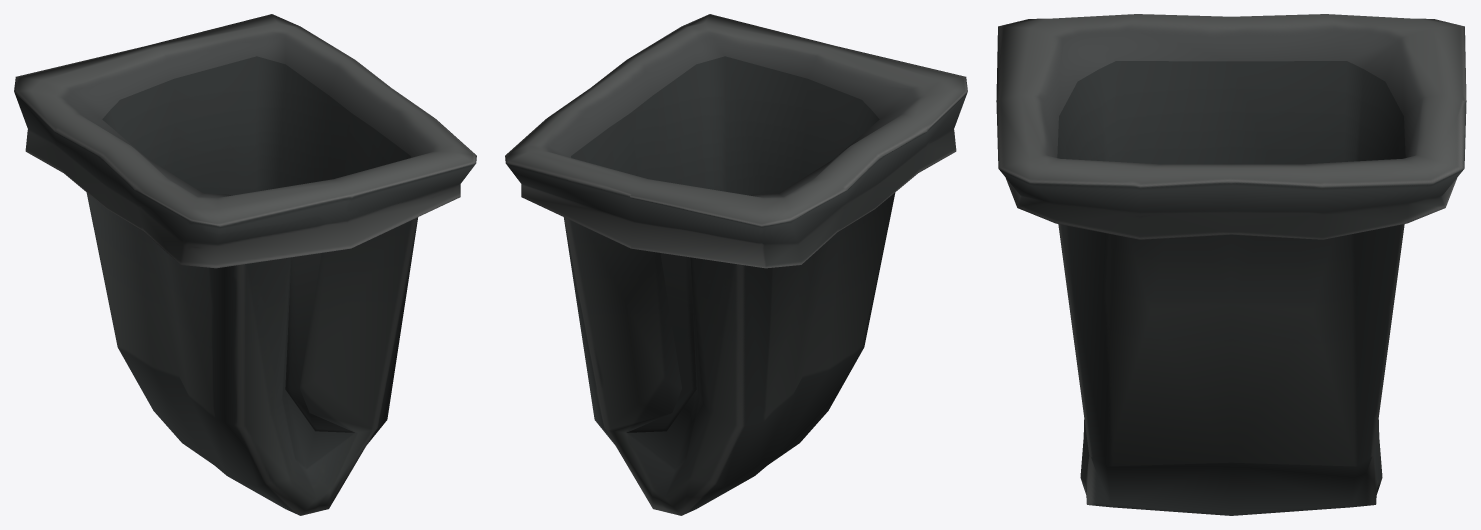
Rendered from cleaners_cleaningCart_trashBag_1.fbx.
The picture shows the model from 3 angles, left to right: view 1: azimuth 30°, elevation 25°; view 2: azimuth 150°, elevation 25°; view 3: azimuth 270°, elevation 25°; orthographic projection. The views are drawn at different scales.
Visible parts, largest first — view 1: cleaners_cleaningCart_trashBag_1; view 2: cleaners_cleaningCart_trashBag_1; view 3: cleaners_cleaningCart_trashBag_1.
Boxes of the visible parts, x1,y1,x2,y2 form: cleaners_cleaningCart_trashBag_1: (14,14,476,515); cleaners_cleaningCart_trashBag_1: (505,14,967,515); cleaners_cleaningCart_trashBag_1: (996,14,1466,515).
Size of the model in its own units: 29.82 by 34.22 by 35.37.
